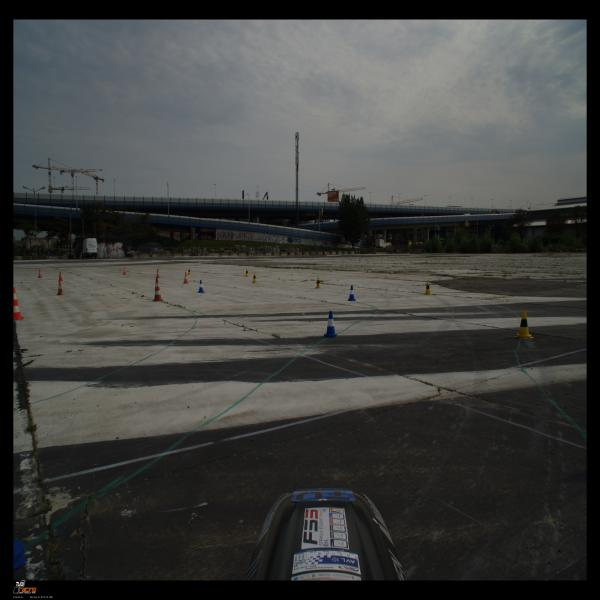blue_cone: (324, 311, 337, 338), (348, 285, 356, 301), (197, 280, 205, 293)
large_orange_cone: (13, 287, 24, 320), (152, 277, 163, 302)
orange_cone: (56, 281, 65, 295), (183, 272, 189, 284), (58, 271, 63, 281), (156, 269, 160, 278), (38, 269, 42, 278), (123, 267, 127, 275)
yellow_cone: (514, 311, 534, 339), (424, 280, 432, 295), (316, 276, 322, 288), (252, 272, 257, 283), (245, 268, 249, 276), (188, 268, 192, 274)
